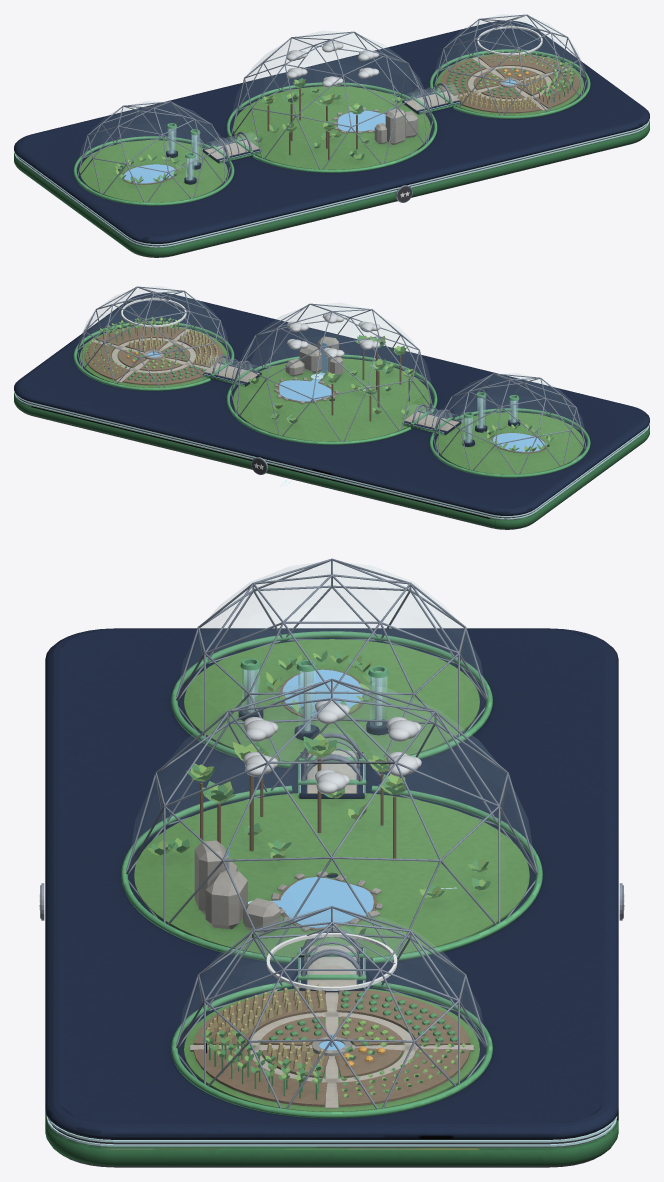
Rendered from SM_Evo_Biodome.fbx.
The picture shows the model from 3 angles, top to bottom: view 1: azimuth 30°, elevation 25°; view 2: azimuth 150°, elevation 25°; view 3: azimuth 270°, elevation 25°; orthographic projection. The views are drawn at different scales.
Visible parts, largest first — view 1: SMN_Evo_Biodome, Emblem_Fx_Biodome, SpinDish_BiodomeCloud; view 2: SMN_Evo_Biodome, Emblem_Fx_Biodome, SpinDish_BiodomeCloud; view 3: SMN_Evo_Biodome, Emblem_Fx_Biodome, SpinDish_BiodomeCloud.
Boxes of the visible parts, x1=… form: SMN_Evo_Biodome: x1=14, y1=14, x2=649, y2=257; Emblem_Fx_Biodome: x1=14, y1=14, x2=649, y2=247; SpinDish_BiodomeCloud: x1=286, y1=41, x2=379, y2=87; SMN_Evo_Biodome: x1=14, y1=286, x2=649, y2=529; Emblem_Fx_Biodome: x1=14, y1=286, x2=649, y2=519; SpinDish_BiodomeCloud: x1=287, y1=313, x2=380, y2=358; SMN_Evo_Biodome: x1=40, y1=558, x2=623, y2=1167; Emblem_Fx_Biodome: x1=39, y1=561, x2=624, y2=1146; SpinDish_BiodomeCloud: x1=243, y1=700, x2=421, y2=793.
Size of the model in its own units: 3.84 by 1.11 by 1.88.
